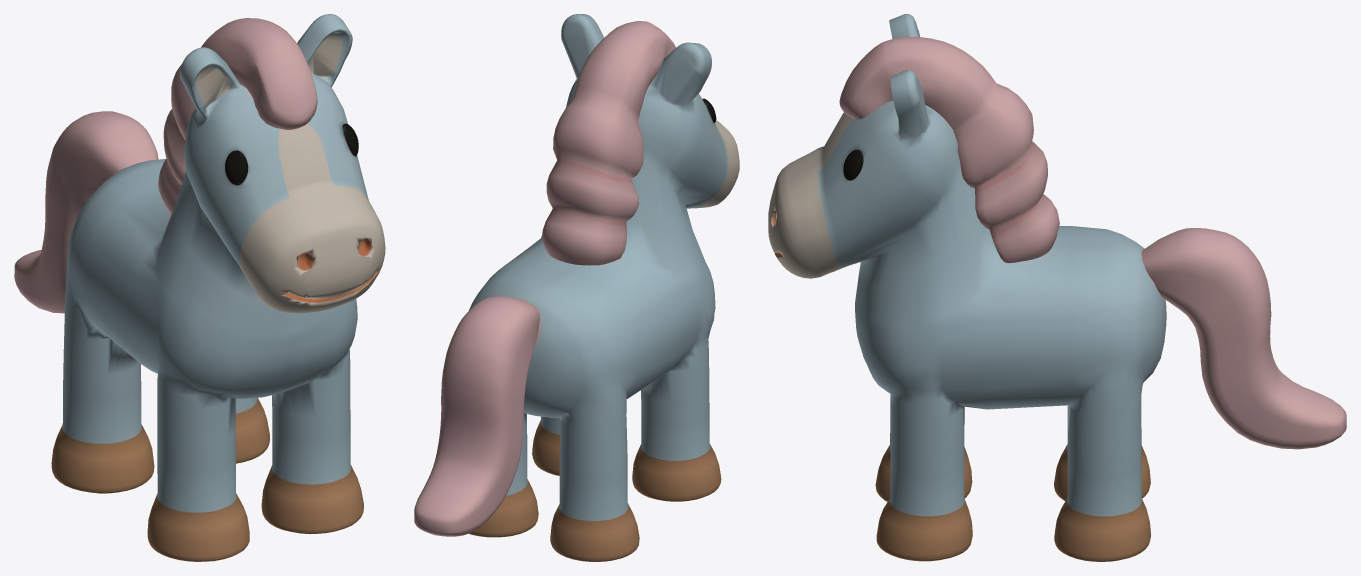
File: Blue Pony.fbx
The picture shows the model from 3 angles, left to right: view 1: azimuth 30°, elevation 25°; view 2: azimuth 150°, elevation 25°; view 3: azimuth 270°, elevation 25°; orthographic projection. The views are drawn at different scales.
Parts seen in each view (by area): view 1: Cute_Blue_Toy_Pony; view 2: Cute_Blue_Toy_Pony; view 3: Cute_Blue_Toy_Pony.
Part boxes in pixels (x1=…): Cute_Blue_Toy_Pony: x1=14, y1=14, x2=385, y2=561; Cute_Blue_Toy_Pony: x1=414, y1=14, x2=739, y2=561; Cute_Blue_Toy_Pony: x1=768, y1=14, x2=1346, y2=561.
Bounding box in the file's own units: 0.7615 × 1.8 × 1.98.
1 material, 1 textured.
